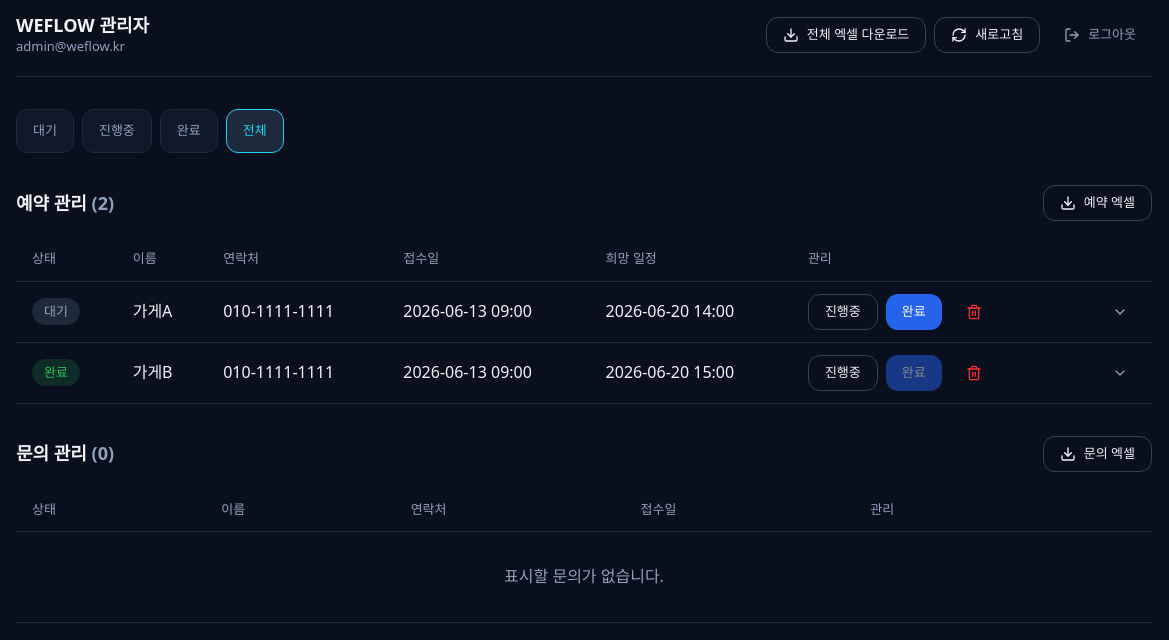
Scenario: AdminDashboardPage › 상태 탭으로 필터링(완료만)
This screenshot has width=1169, height=640.
Check: the text "가게A" is shown, box [133,300,172,322]
Click the tab "완료". click: (189, 131)
box: [160,109,218,153]
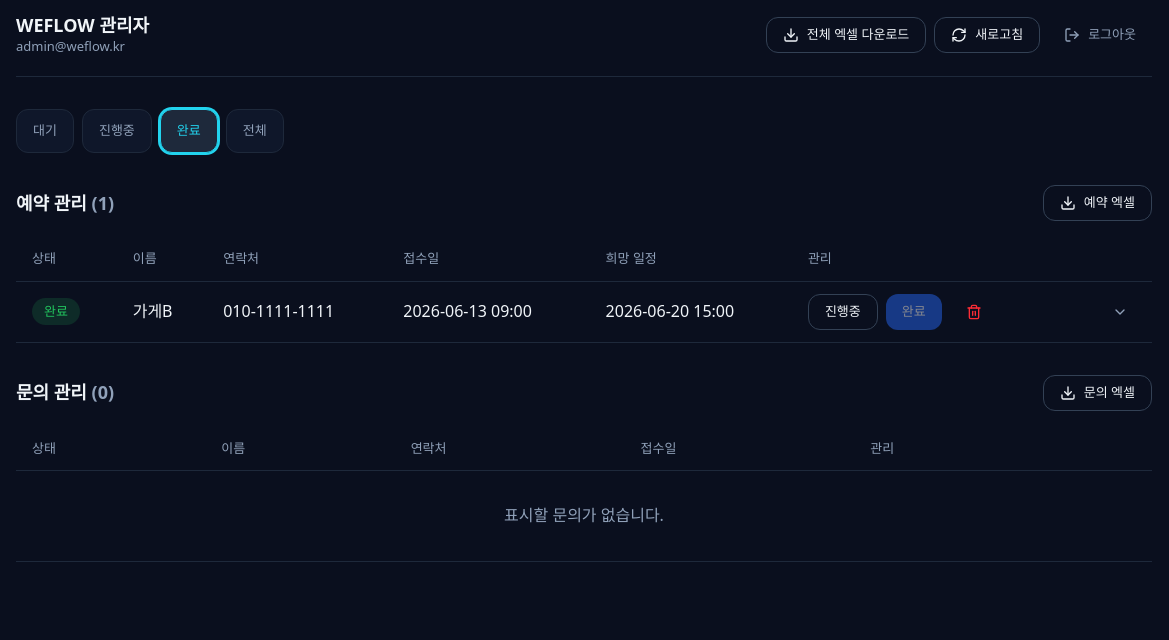
Check: the text "가게B" is shown, box [133,300,172,322]
Check: the text "가게A" is gone
